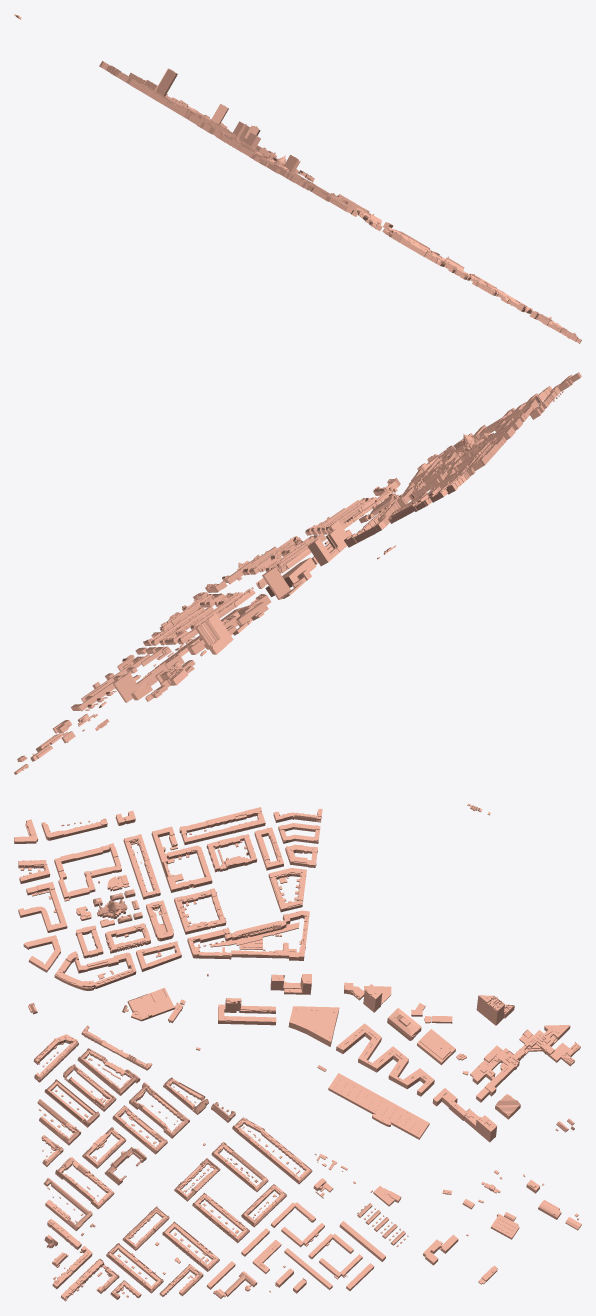
The picture shows the model from 3 angles, top to bottom: view 1: azimuth 30°, elevation 25°; view 2: azimuth 150°, elevation 25°; view 3: azimuth 270°, elevation 25°; orthographic projection. The views are drawn at different scales.
Size of the model in its own units: 3.41e+07 by 2.5e+07 by 4.15e+07.
